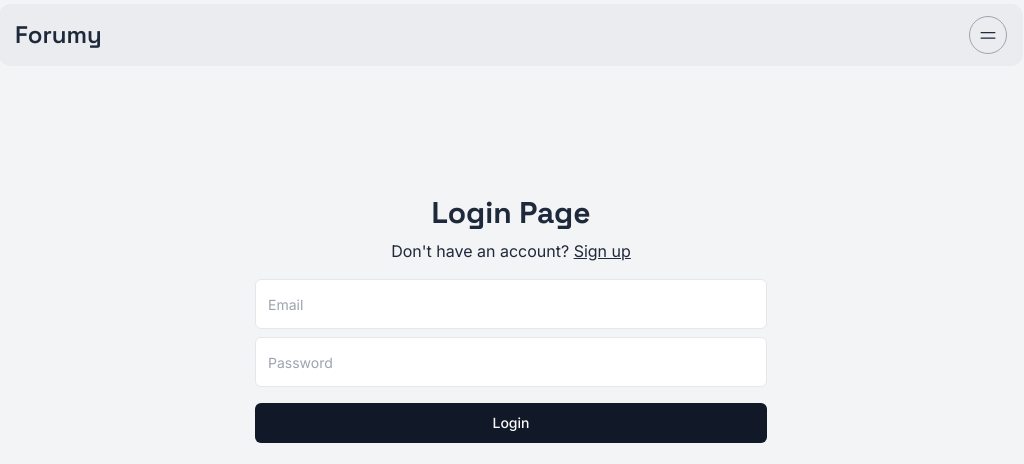
The Login Page Test › should show an error alert when empty login inputs are empty
The width and height of the screenshot is (1024, 464).
Expected: the field with test id "email-input" is shown, [255,279,767,329]
Expected: the password field with test id "password-input" is shown, [255,337,767,387]
Click the button with test id "login-btn".
click(511, 423)  # box [255,403,767,443]
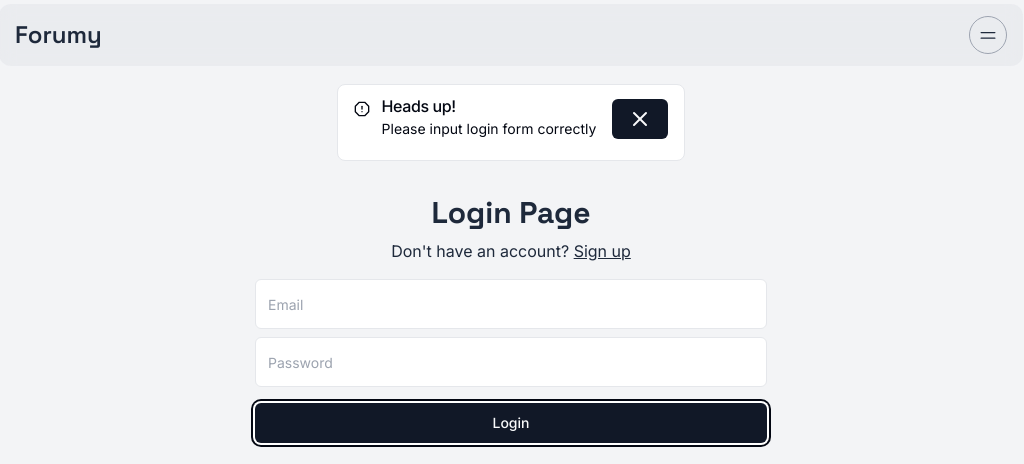
Result: the button with test id "alert-close-btn" is shown
Click the button with test id "alert-close-btn".
click(640, 119)  # box [612,99,668,139]
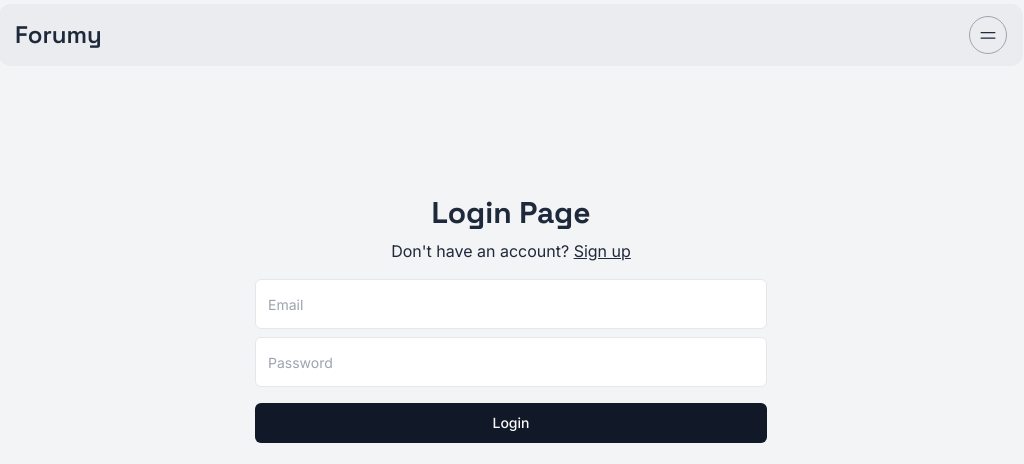
Type "foodoe@email.com" into the field with test id "email-input".
click(511, 304); type("foodoe@email.com")  # box [255,279,767,329]
Click the button with test id "login-btn".
click(511, 423)  # box [255,403,767,443]
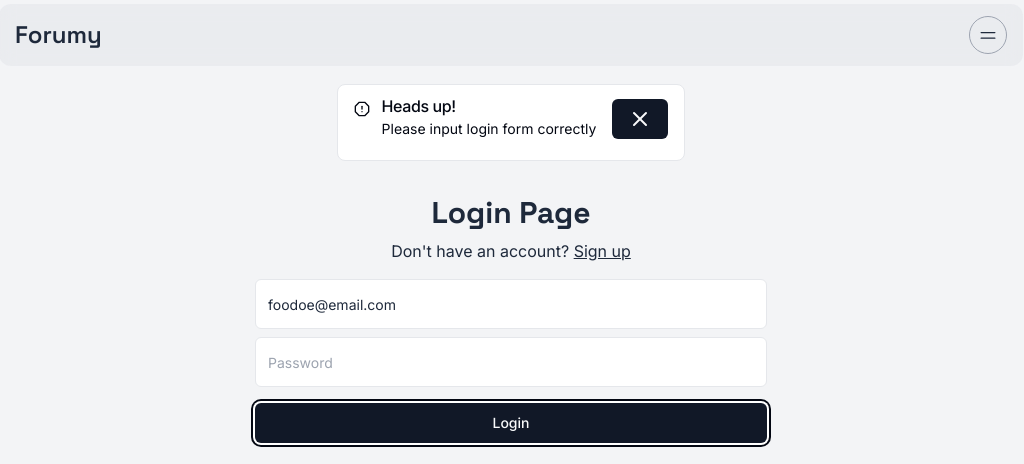
Result: the heading "Heads up!" is shown at [382,96,456,116]
Result: the text "Please input login form correctly" is shown at [382,118,596,141]
Click the button with test id "alert-close-btn".
click(640, 119)  # box [612,99,668,139]
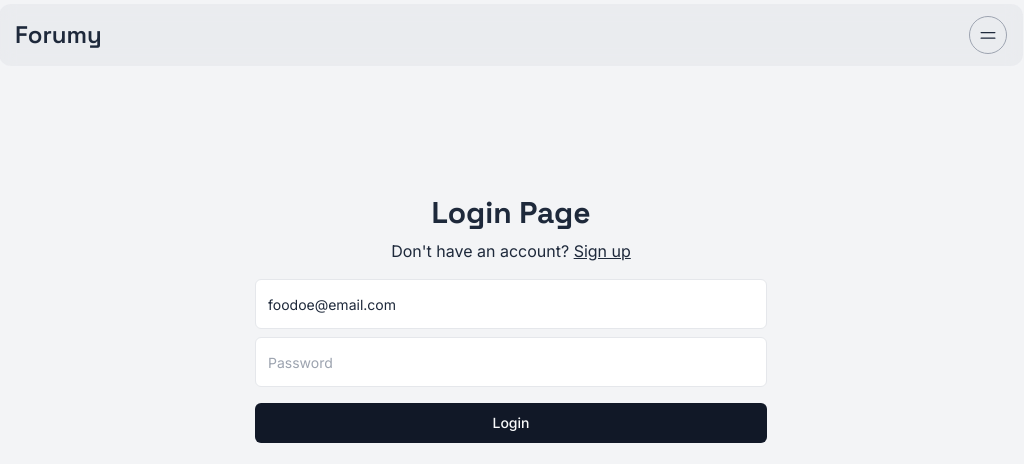
Clear the field with test id "email-input" at (511, 304), box [255,279,767,329]
Type "123123" into the password field with test id "password-input".
click(511, 362); type("123123")  # box [255,337,767,387]
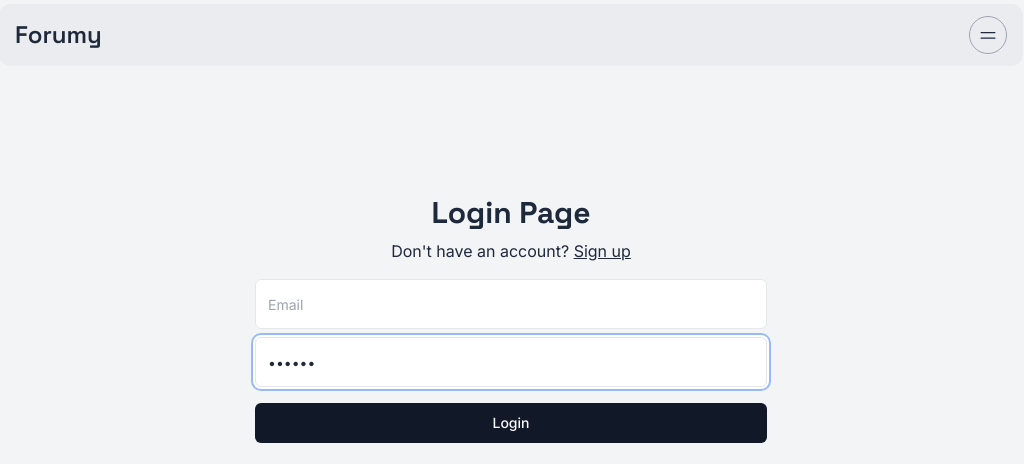
Click the button with test id "login-btn".
click(511, 423)  # box [255,403,767,443]
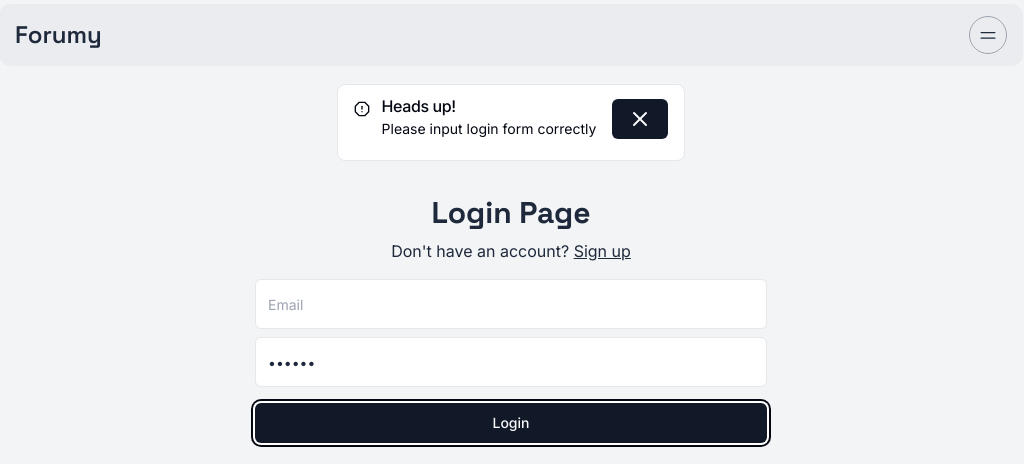
Result: the heading "Heads up!" is shown at [382,96,456,116]
Result: the text "Please input login form correctly" is shown at [382,118,596,141]
